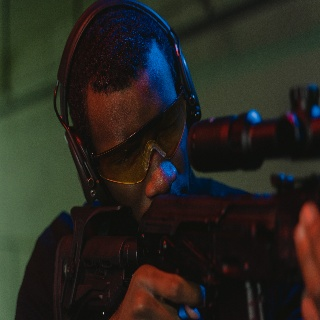rifle: (56, 83, 320, 320)
